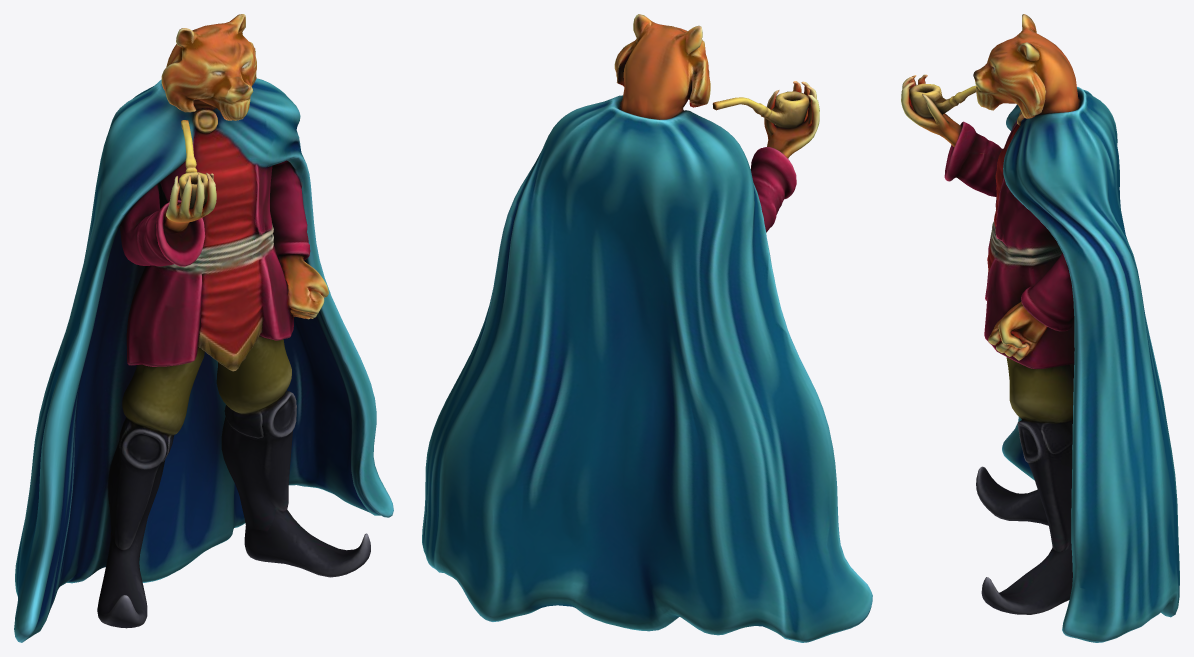
Rendered from Rakshasa.glb.
3 renders of one model, left to right at view 1: azimuth 30°, elevation 25°; view 2: azimuth 150°, elevation 25°; view 3: azimuth 270°, elevation 25°, orthographic. The views are drawn at different scales.
Visible parts, largest first — view 1: body_low.001, pipe_low.001; view 2: body_low.001, pipe_low.001; view 3: body_low.001, pipe_low.001.
Part boxes in pixels (box(x1,y1,x2,y2)): body_low.001: box(14, 14, 393, 642); pipe_low.001: box(178, 120, 207, 208); body_low.001: box(422, 14, 872, 642); pipe_low.001: box(712, 91, 809, 128); body_low.001: box(901, 14, 1179, 642); pipe_low.001: box(909, 83, 976, 117).
Size of the model in its own units: 4.5 by 6.25 by 2.9.
1 material, 1 textured.
